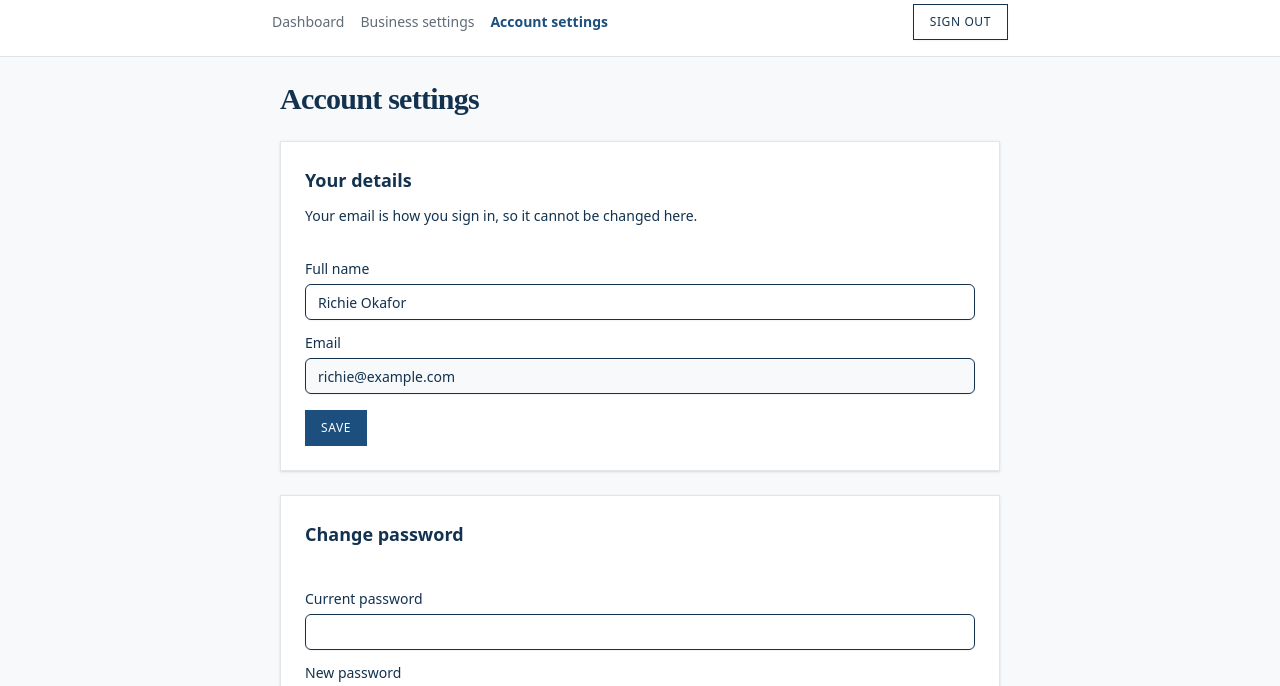
Scenario: account settings › shows the server's message when the current password is wrong
In the password field labelled "Current password": point(640, 632) [305,614,975,650], type "wrong password 1"
(page scrolled)
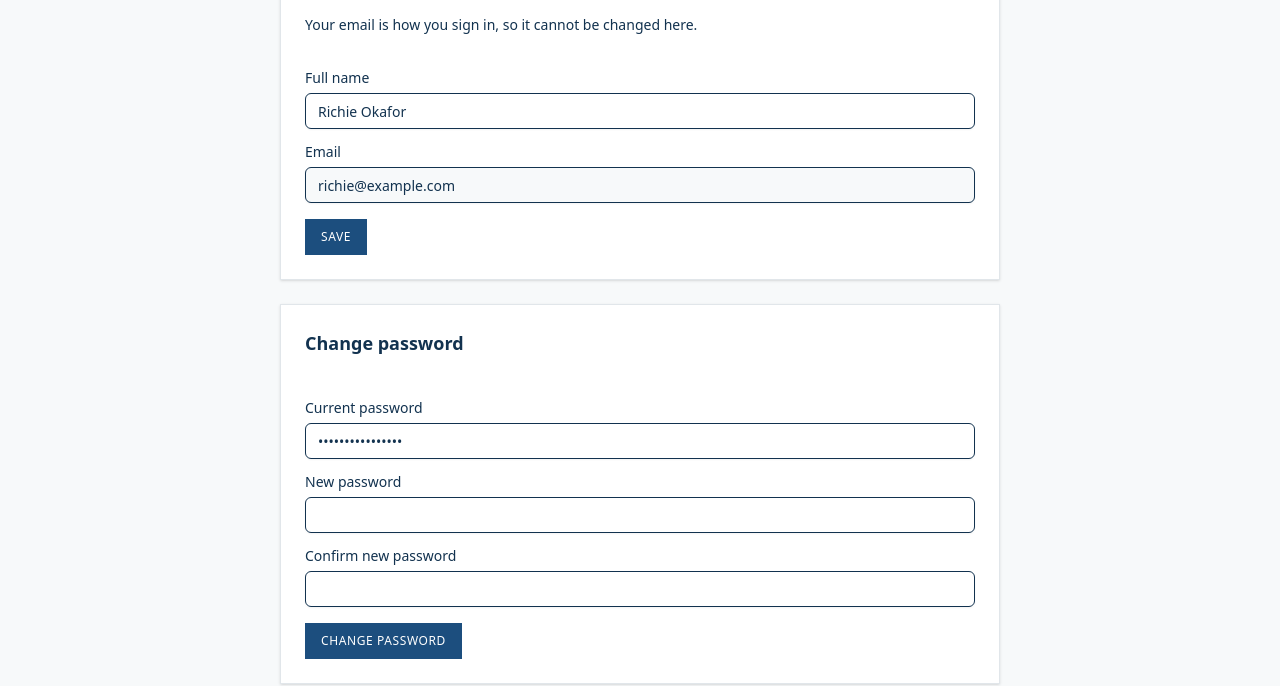
In the password field labelled "New password": point(640, 515) [305,497,975,533], type "brand new pass 7"
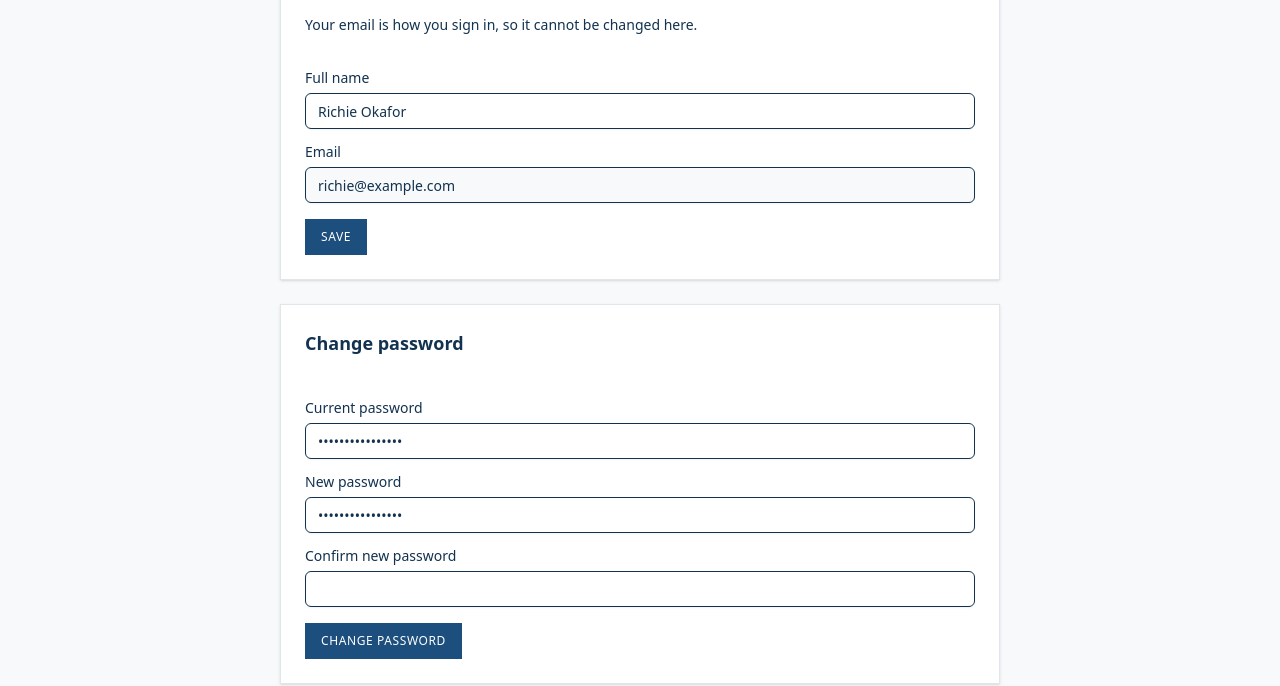
In the password field labelled "Confirm new password": point(640, 589) [305,571,975,607], type "brand new pass 7"
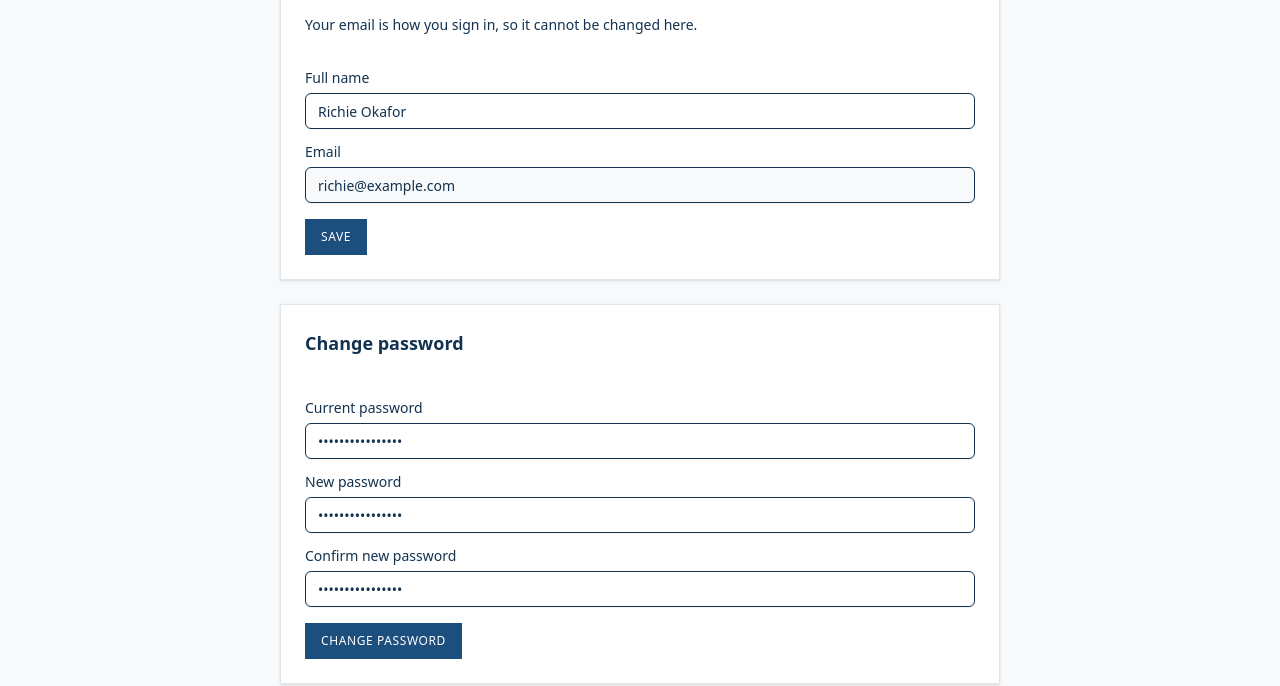
Click the button "Change password": point(383, 641) [305,623,462,659]
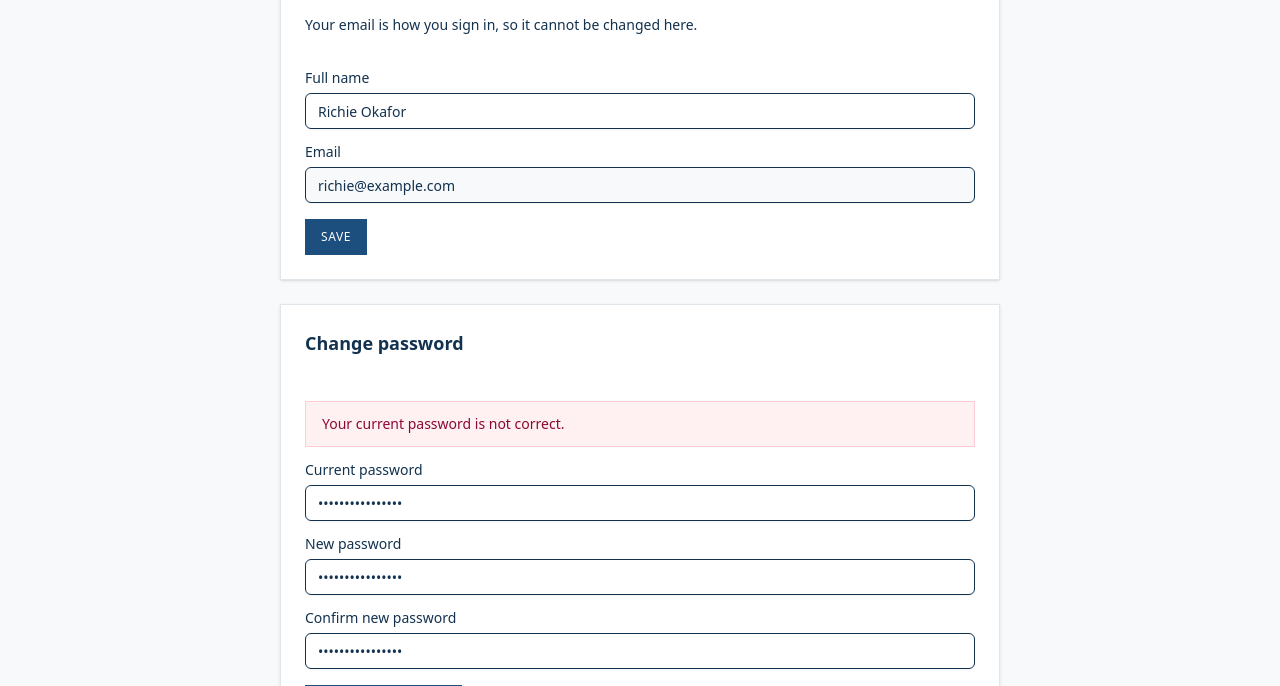
Expected: the message reads "Your current password is not correct.", [322,414,564,433]
